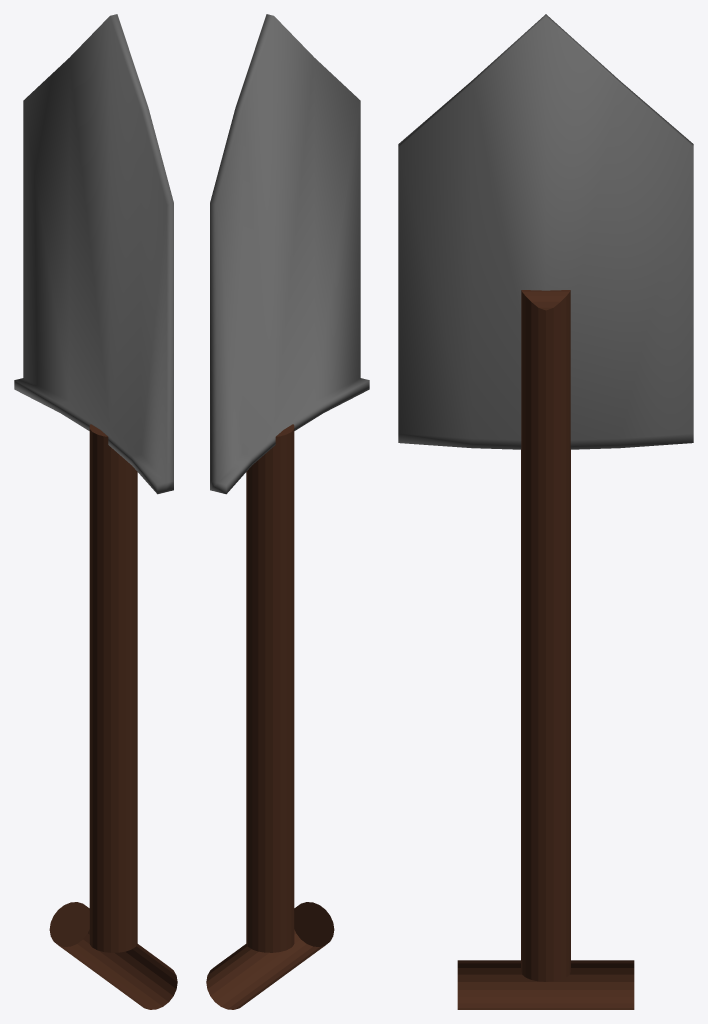
Rendered from shovel.dae.
The picture shows the model from 3 angles, left to right: view 1: azimuth 30°, elevation 25°; view 2: azimuth 150°, elevation 25°; view 3: azimuth 270°, elevation 25°; orthographic projection. The views are drawn at different scales.
Parts seen in each view (by area): view 1: Blade, Handle, Cylinder; view 2: Blade, Handle, Cylinder; view 3: Blade, Handle, Cylinder.
Part boxes in pixels (x1=…): Blade: x1=14, y1=14, x2=173, y2=494; Handle: x1=89, y1=424, x2=137, y2=952; Cylinder: x1=49, y1=902, x2=177, y2=1009; Blade: x1=210, y1=14, x2=369, y2=494; Handle: x1=246, y1=424, x2=294, y2=952; Cylinder: x1=206, y1=902, x2=334, y2=1009; Blade: x1=398, y1=14, x2=693, y2=449; Handle: x1=521, y1=290, x2=570, y2=981; Cylinder: x1=457, y1=960, x2=634, y2=1009.
Bounding box in the file's own units: 0.0394 × 0.2 × 0.742.
